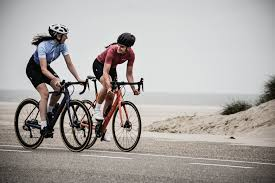bicycle: (13, 75, 98, 155), (76, 81, 150, 156)
